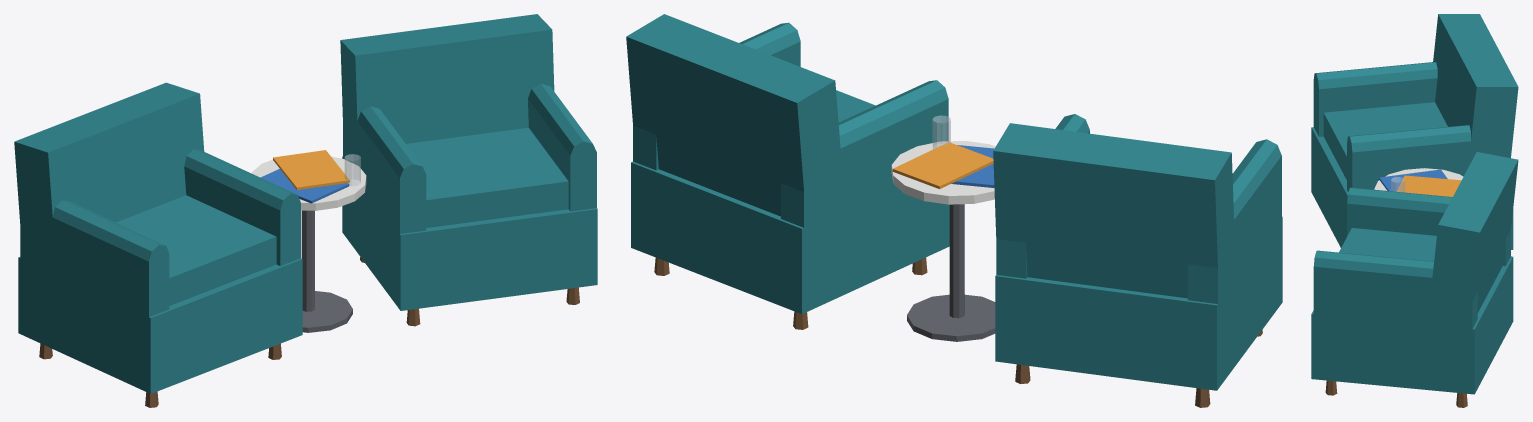
File: visitor_chairs.glb
3 views of the same model, side by side, from view 1: azimuth 30°, elevation 25°; view 2: azimuth 150°, elevation 25°; view 3: azimuth 270°, elevation 25° (orthographic). The views are drawn at different scales.
Parts seen in each view (by area): view 1: visitor_chairs; view 2: visitor_chairs; view 3: visitor_chairs.
Boxes of the visible parts, x1=… form: visitor_chairs: x1=14, y1=14, x2=597, y2=407; visitor_chairs: x1=626, y1=14, x2=1282, y2=407; visitor_chairs: x1=1311, y1=14, x2=1518, y2=407.
Size of the model in its own units: 2.16 by 0.8578 by 0.8666.
